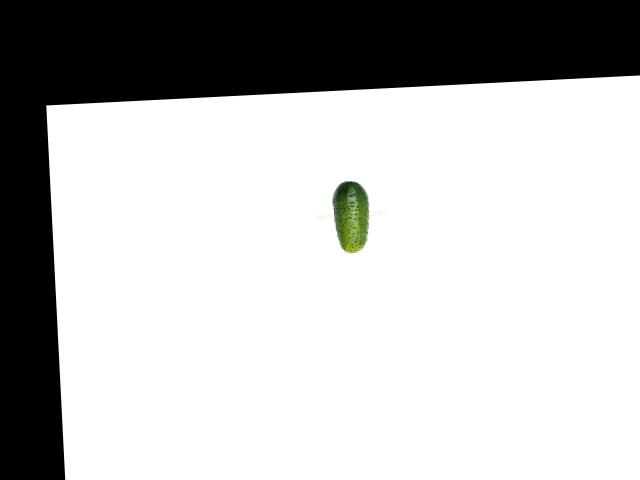cucumber: (331, 179, 372, 254)
